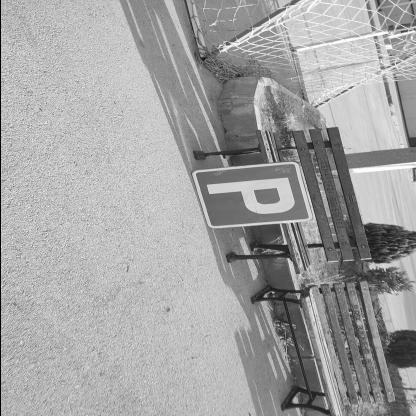Parking-Sign: (190, 162, 314, 230)
